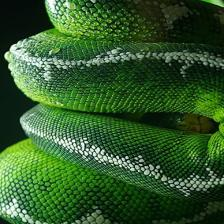green: (9, 29, 224, 122), (21, 104, 224, 201), (1, 139, 210, 224), (45, 0, 224, 46)
